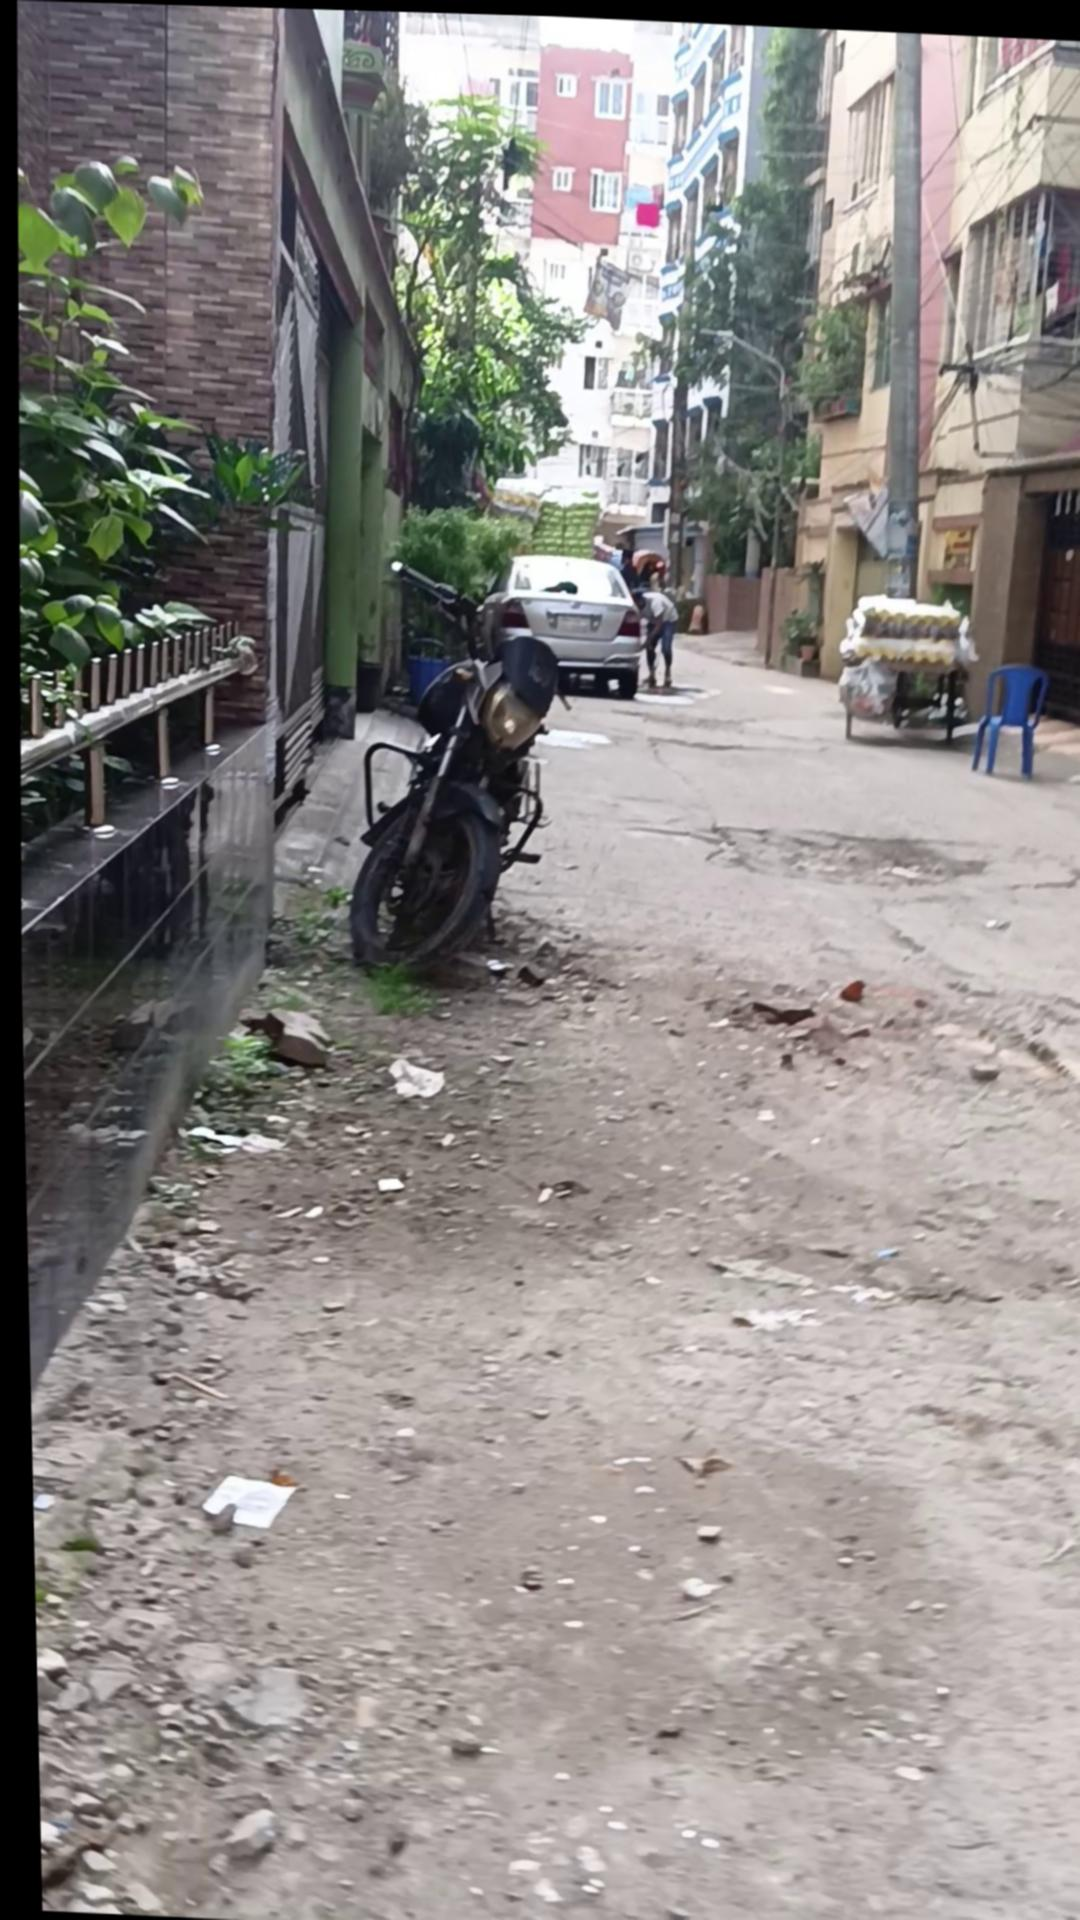Broken-road: (11, 585, 1080, 1920)
Car: (468, 547, 642, 696)
Light-pole: (335, 551, 566, 978)
Muddy road: (628, 578, 676, 686)
Obstacle: (869, 26, 932, 595)
Pothole: (829, 585, 973, 740)
